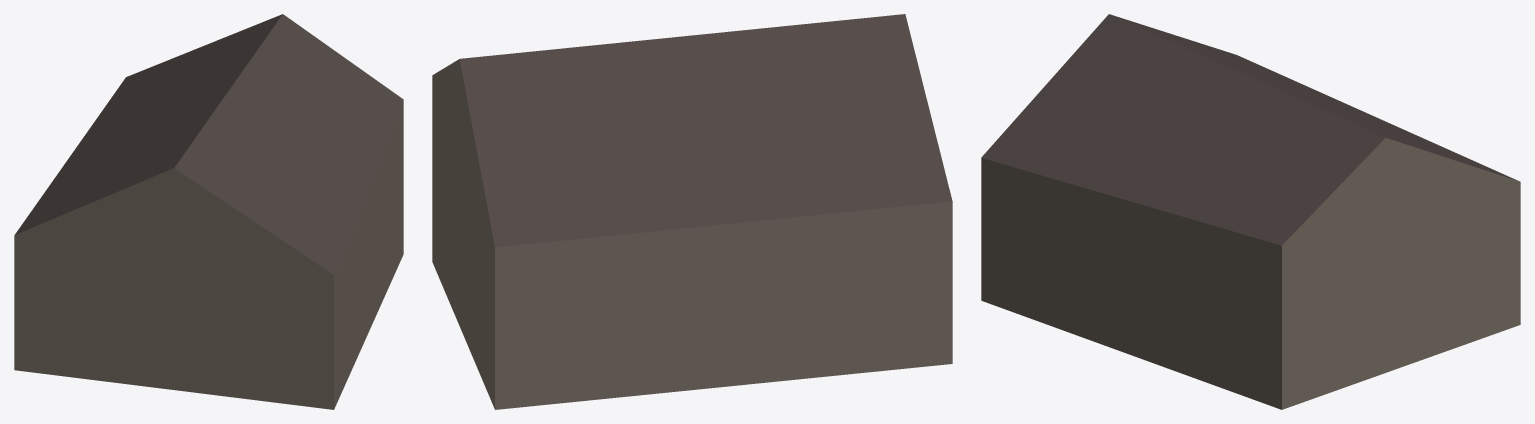
3 views of the same model, side by side, from view 1: azimuth 30°, elevation 25°; view 2: azimuth 150°, elevation 25°; view 3: azimuth 270°, elevation 25° (orthographic). The views are drawn at different scales.
Visible parts, largest first — view 1: HP-w858807442; view 2: HP-w858807442; view 3: HP-w858807442.
Boxes of the visible parts, box(x1,y1,x2,y2) form: HP-w858807442: box(14, 14, 403, 409); HP-w858807442: box(432, 14, 952, 409); HP-w858807442: box(981, 14, 1520, 409).
Bounding box in the file's own units: 19.1 × 9.88 × 20.53.
